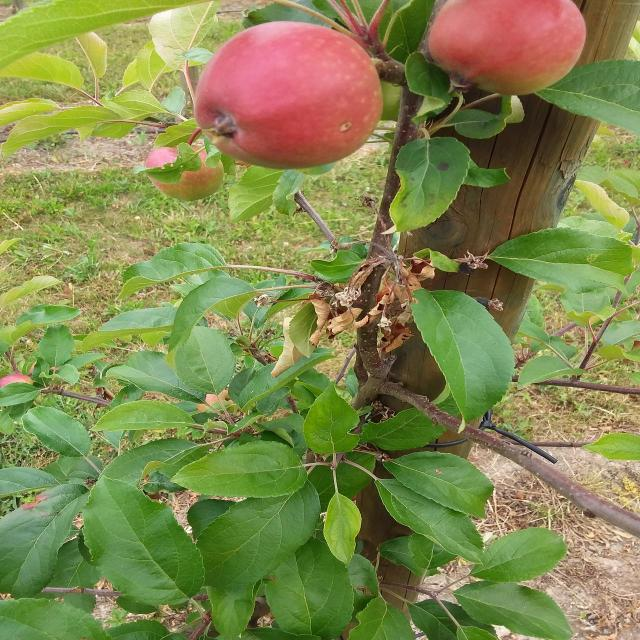-FireBlight-: (288, 249, 431, 357)
